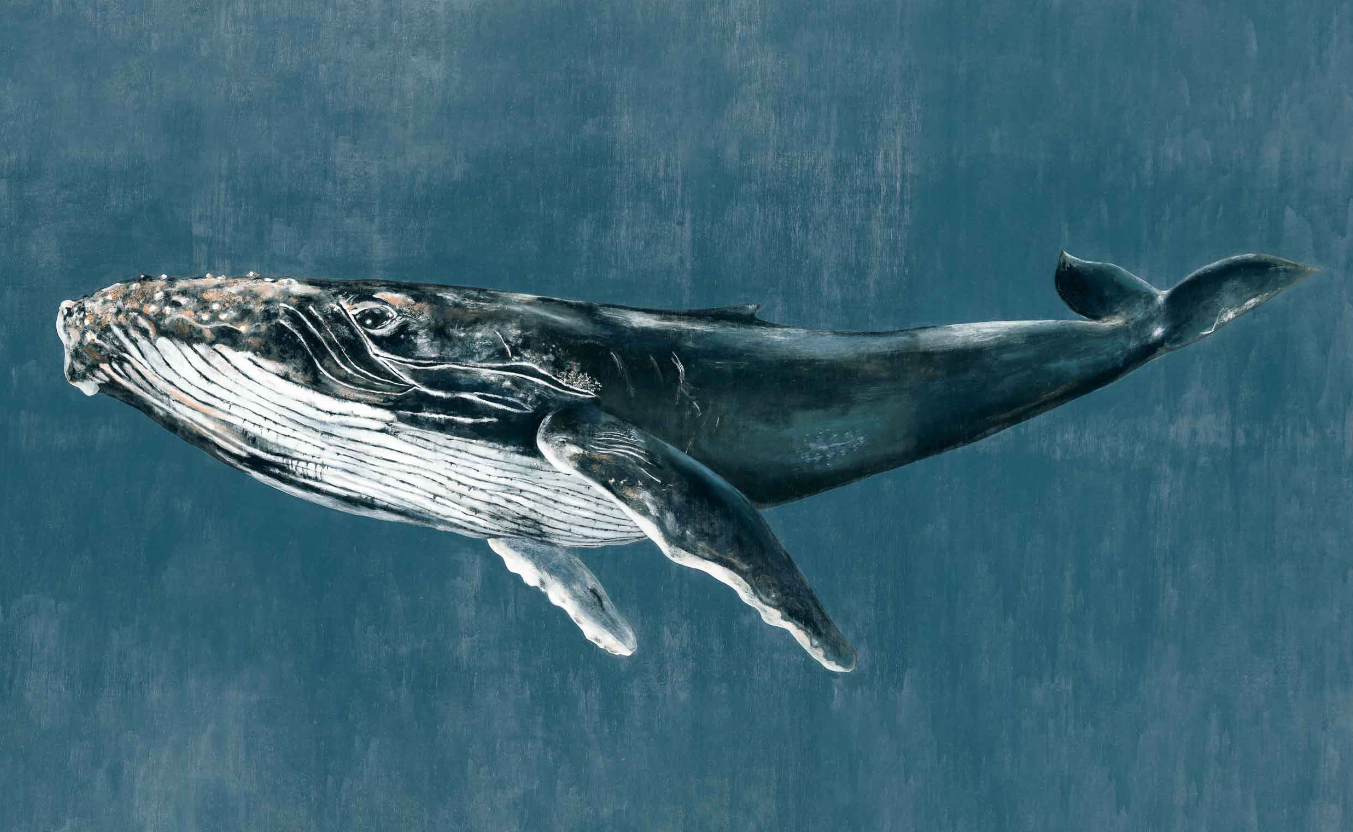Humpback whale: (47, 240, 1325, 688)
